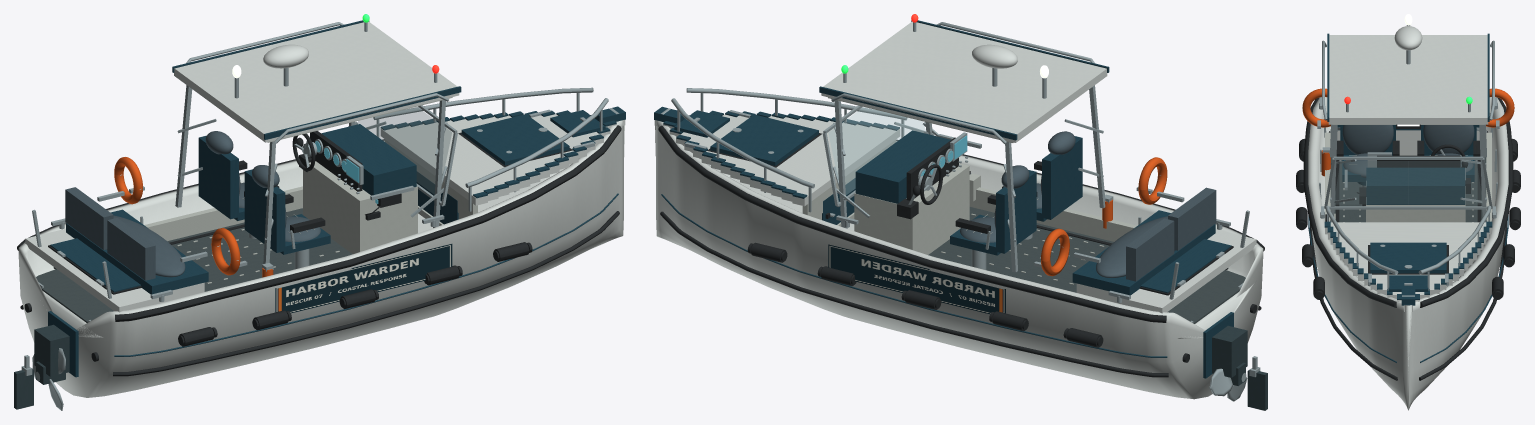
Rendered from PZ_Rescue_Speedboat.glb.
3 views of the same model, side by side, from view 1: azimuth 30°, elevation 25°; view 2: azimuth 150°, elevation 25°; view 3: azimuth 270°, elevation 25° (orthographic). The views are drawn at different scales.
Parts seen in each view (by area): view 1: RENDER_Hull_Loft_Closed_24PointVeeShell, RENDER_SearchRescue_TTop_MainPanel, RENDER_Center_Console_LowerBase, RENDER_Aft_Cockpit_Floor_GripPlate, RENDER_PORT_HarborWarden_Brand_Panel, RENDER_PORT_Exterior_Sheer_Bumper_02, RENDER_Console_Top_Sloped_Instrument_Ledge, RENDER_Bow_DryStorage_Hatch, RENDER_PORT_Exterior_Sheer_Bumper_00, RENDER_Aft_Engine_Access_Deck, RENDER_STBD_Backrest_Frame, RENDER_Windshield_Upper_Left (+35 smaller); view 2: RENDER_Hull_Loft_Closed_24PointVeeShell, RENDER_SearchRescue_TTop_MainPanel, RENDER_Aft_Cockpit_Floor_GripPlate, RENDER_Center_Console_LowerBase, RENDER_STBD_HarborWarden_Brand_Panel, RENDER_STBD_Exterior_Sheer_Bumper_02, RENDER_Console_Top_Sloped_Instrument_Ledge, RENDER_Bow_DryStorage_Hatch, RENDER_STBD_Exterior_Sheer_Bumper_00, RENDER_Aft_Engine_Access_Deck, RENDER_PORT_Backrest_Frame, RENDER_Windshield_Upper_Right (+35 smaller); view 3: RENDER_Hull_Loft_Closed_24PointVeeShell, RENDER_SearchRescue_TTop_MainPanel, RENDER_Console_Top_Sloped_Instrument_Ledge, RENDER_Windshield_Upper_Left, RENDER_Windshield_Upper_Right, RENDER_Bow_DryStorage_Hatch, RENDER_Center_Console_LowerBase, RENDER_Aft_Cockpit_Floor_GripPlate, RENDER_STBD_Exterior_Sheer_Bumper_02, RENDER_PORT_Exterior_Sheer_Bumper_02, RENDER_PORT_Backrest_Cushion, RENDER_STBD_Backrest_Cushion (+46 smaller).
Boxes of the visible parts, x1=… form: RENDER_Hull_Loft_Closed_24PointVeeShell: x1=18, y1=120, x2=624, y2=397; RENDER_SearchRescue_TTop_MainPanel: x1=174, y1=21, x2=459, y2=142; RENDER_Center_Console_LowerBase: x1=303, y1=161, x2=417, y2=254; RENDER_Aft_Cockpit_Floor_GripPlate: x1=36, y1=208, x2=352, y2=322; RENDER_PORT_HarborWarden_Brand_Panel: x1=275, y1=244, x2=452, y2=313; RENDER_PORT_Exterior_Sheer_Bumper_02: x1=115, y1=125, x2=621, y2=321; RENDER_Console_Top_Sloped_Instrument_Ledge: x1=321, y1=124, x2=416, y2=195; RENDER_Bow_DryStorage_Hatch: x1=461, y1=114, x2=569, y2=165; RENDER_PORT_Exterior_Sheer_Bumper_00: x1=113, y1=211, x2=619, y2=376; RENDER_Aft_Engine_Access_Deck: x1=25, y1=228, x2=170, y2=312; RENDER_STBD_Backrest_Frame: x1=198, y1=135, x2=238, y2=219; RENDER_Windshield_Upper_Left: x1=400, y1=107, x2=451, y2=194; RENDER_Hull_Loft_Closed_24PointVeeShell: x1=655, y1=120, x2=1263, y2=399; RENDER_SearchRescue_TTop_MainPanel: x1=821, y1=21, x2=1107, y2=142; RENDER_Aft_Cockpit_Floor_GripPlate: x1=928, y1=207, x2=1245, y2=323; RENDER_Center_Console_LowerBase: x1=854, y1=163, x2=969, y2=254; RENDER_STBD_HarborWarden_Brand_Panel: x1=828, y1=244, x2=1005, y2=314; RENDER_STBD_Exterior_Sheer_Bumper_02: x1=658, y1=125, x2=1166, y2=322; RENDER_Console_Top_Sloped_Instrument_Ledge: x1=855, y1=130, x2=950, y2=203; RENDER_Bow_DryStorage_Hatch: x1=710, y1=114, x2=818, y2=165; RENDER_STBD_Exterior_Sheer_Bumper_00: x1=660, y1=211, x2=1168, y2=377; RENDER_Aft_Engine_Access_Deck: x1=1110, y1=229, x2=1256, y2=313; RENDER_PORT_Backrest_Frame: x1=1042, y1=136, x2=1082, y2=219; RENDER_Windshield_Upper_Right: x1=828, y1=107, x2=880, y2=194; RENDER_Hull_Loft_Closed_24PointVeeShell: x1=1308, y1=97, x2=1508, y2=410; RENDER_SearchRescue_TTop_MainPanel: x1=1328, y1=35, x2=1488, y2=124; RENDER_Console_Top_Sloped_Instrument_Ledge: x1=1366, y1=167, x2=1465, y2=204; RENDER_Windshield_Upper_Left: x1=1334, y1=161, x2=1408, y2=204; RENDER_Windshield_Upper_Right: x1=1408, y1=161, x2=1482, y2=204; RENDER_Bow_DryStorage_Hatch: x1=1370, y1=242, x2=1446, y2=273; RENDER_Center_Console_LowerBase: x1=1366, y1=181, x2=1465, y2=222; RENDER_Aft_Cockpit_Floor_GripPlate: x1=1330, y1=157, x2=1486, y2=222; RENDER_STBD_Exterior_Sheer_Bumper_02: x1=1420, y1=97, x2=1513, y2=307; RENDER_PORT_Exterior_Sheer_Bumper_02: x1=1303, y1=97, x2=1396, y2=307; RENDER_PORT_Backrest_Cushion: x1=1342, y1=125, x2=1393, y2=154; RENDER_STBD_Backrest_Cushion: x1=1423, y1=125, x2=1474, y2=154.
Bounding box in the file's own units: 8.37 × 3.94 × 3.07.
16 materials, 11 textured.
